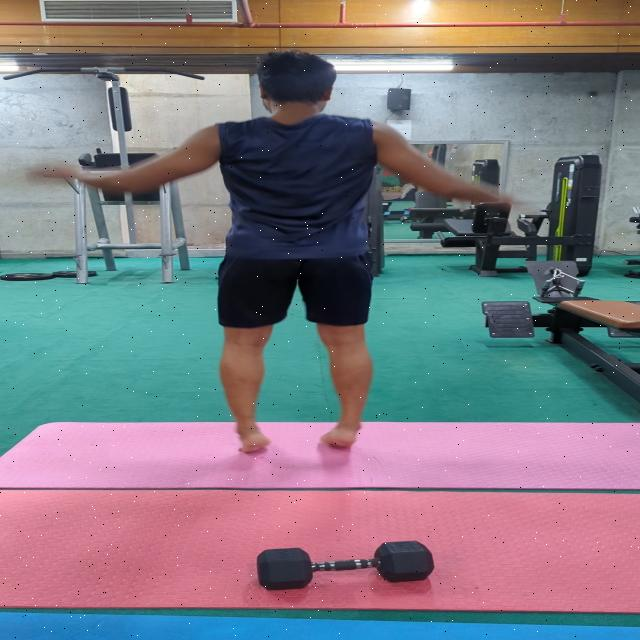Normal_JumpingJacks: (85, 60, 559, 461)
